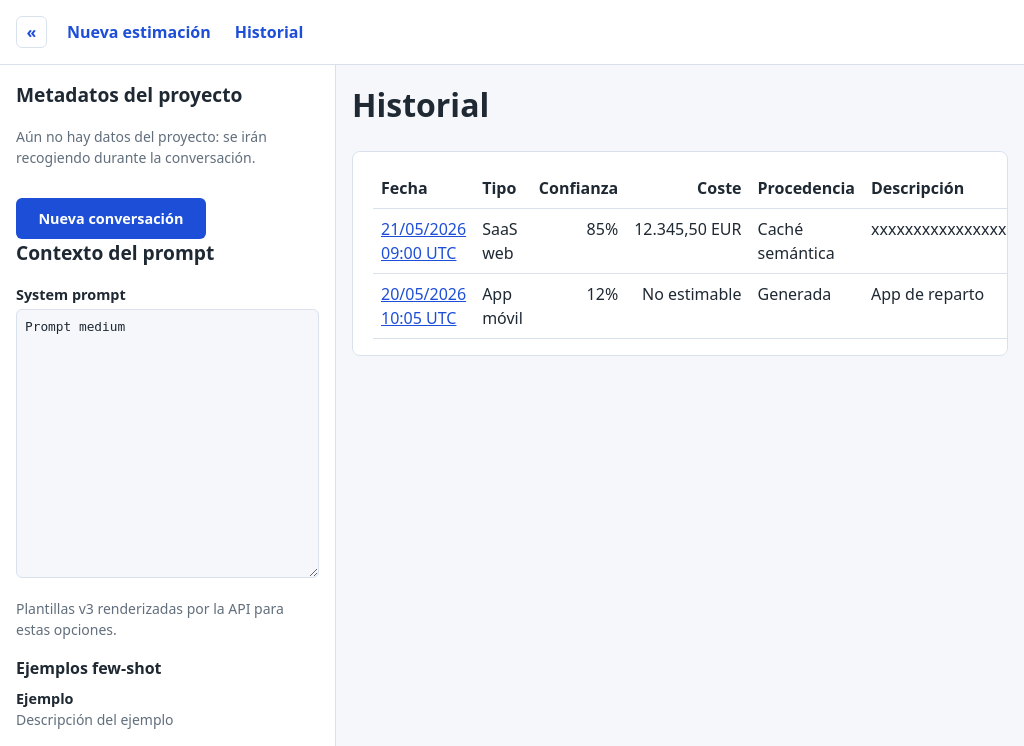
HistoryPage › la navegación lleva del historial al formulario
The image size is (1024, 746).
Click the link "Nueva estimación".
click(139, 32)  # box left=67, top=20, right=211, bottom=44
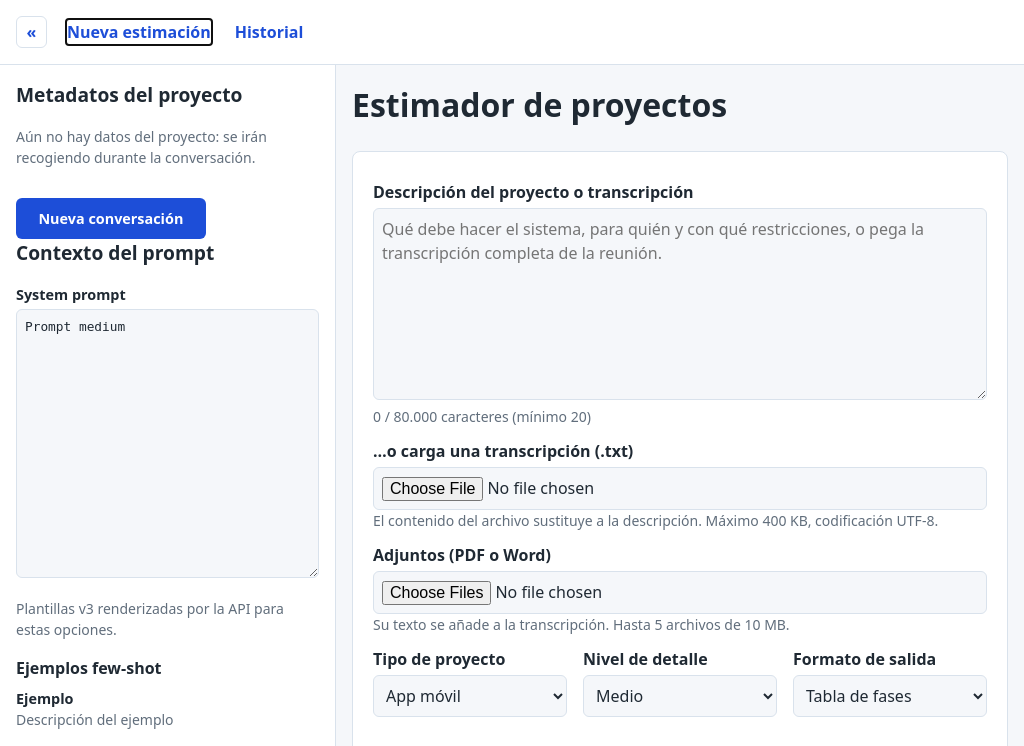
Check: the heading "Estimador de proyectos" is shown, box left=352, top=83, right=727, bottom=126
